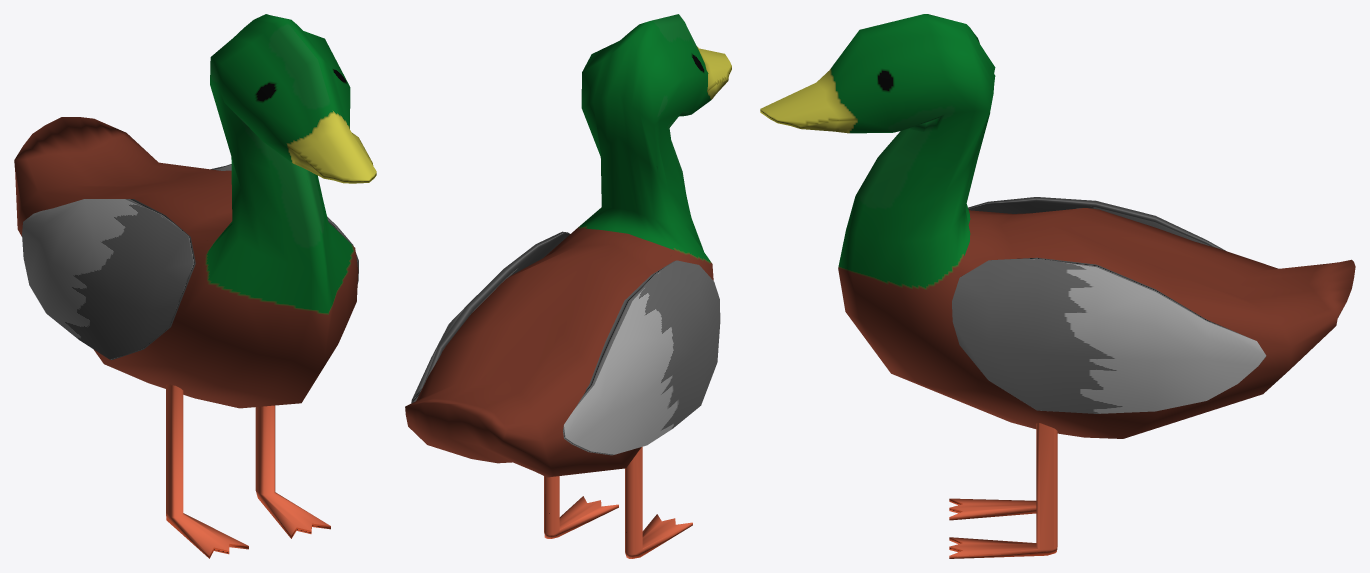
The model's file is duck.fbx.
3 renders of one model, left to right at view 1: azimuth 30°, elevation 25°; view 2: azimuth 150°, elevation 25°; view 3: azimuth 270°, elevation 25°, orthographic. The views are drawn at different scales.
Visible parts, largest first — view 1: pPlane4, pCube2, pCylinder4, pCylinder3; view 2: pPlane4, pCube2, pCylinder4, pCube1, pCylinder3; view 3: pPlane4, pCube1, pCylinder3, pCube2, pCylinder4.
Boxes of the visible parts, left/top/right/bottom form: pPlane4: left=14, top=14, right=376, bottom=408; pCube2: left=22, top=199, right=195, bottom=360; pCylinder4: left=166, top=384, right=248, bottom=558; pCylinder3: left=255, top=405, right=330, bottom=538; pPlane4: left=405, top=14, right=731, bottom=477; pCube2: left=563, top=260, right=720, bottom=455; pCylinder4: left=625, top=447, right=692, bottom=558; pCube1: left=411, top=231, right=569, bottom=403; pCylinder3: left=544, top=476, right=618, bottom=538; pPlane4: left=760, top=14, right=1355, bottom=438; pCube1: left=952, top=257, right=1266, bottom=413; pCylinder3: left=949, top=423, right=1057, bottom=558; pCube2: left=968, top=197, right=1225, bottom=250; pCylinder4: left=949, top=498, right=1036, bottom=520.
Bounding box in the file's own units: 1.91 × 4.17 × 4.35.
Materials: 3 (3 with a texture image).
